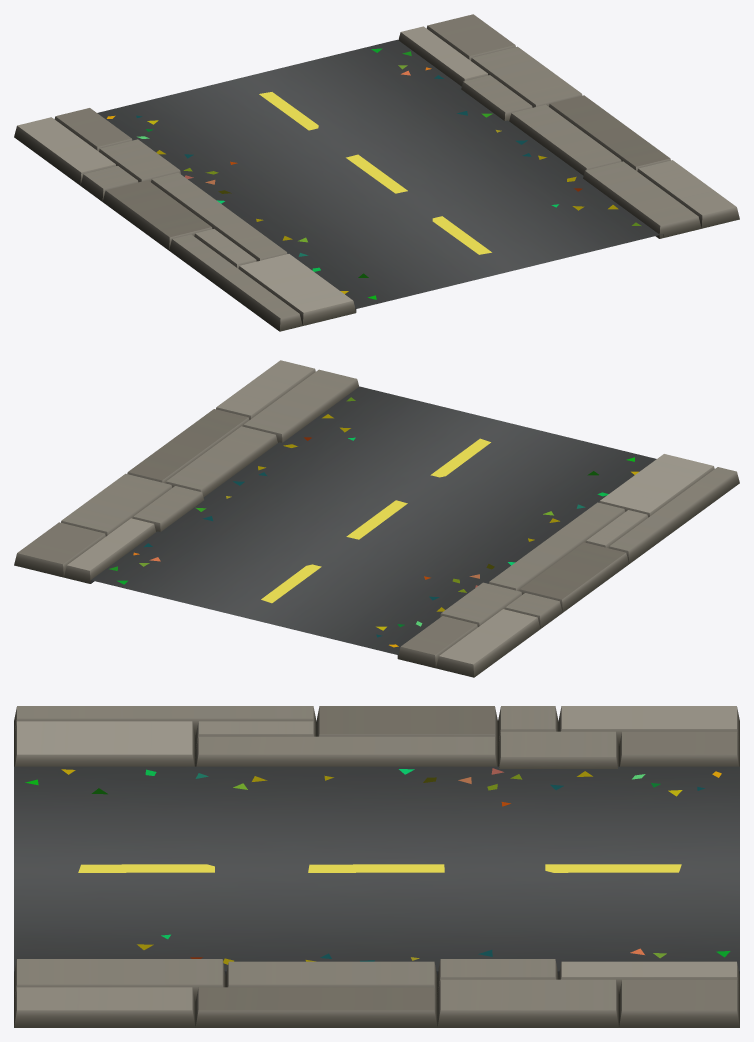
The model's file is Country_Road_1A.fbx.
The picture shows the model from 3 angles, top to bottom: view 1: azimuth 30°, elevation 25°; view 2: azimuth 150°, elevation 25°; view 3: azimuth 270°, elevation 25°; orthographic projection. The views are drawn at different scales.
Parts seen in each view (by area): view 1: Country_Road_1A, Country_Road_1A_Leaves; view 2: Country_Road_1A, Country_Road_1A_Leaves; view 3: Country_Road_1A, Country_Road_1A_Leaves.
Boxes of the visible parts, x1=… form: Country_Road_1A: x1=14, y1=14, x2=739, y2=331; Country_Road_1A_Leaves: x1=107, y1=48, x2=641, y2=299; Country_Road_1A: x1=14, y1=360, x2=739, y2=677; Country_Road_1A_Leaves: x1=109, y1=397, x2=638, y2=647; Country_Road_1A: x1=14, y1=706, x2=739, y2=1027; Country_Road_1A_Leaves: x1=25, y1=768, x2=730, y2=964.
Bounding box in the file's own units: 1200 × 30 × 1200.
